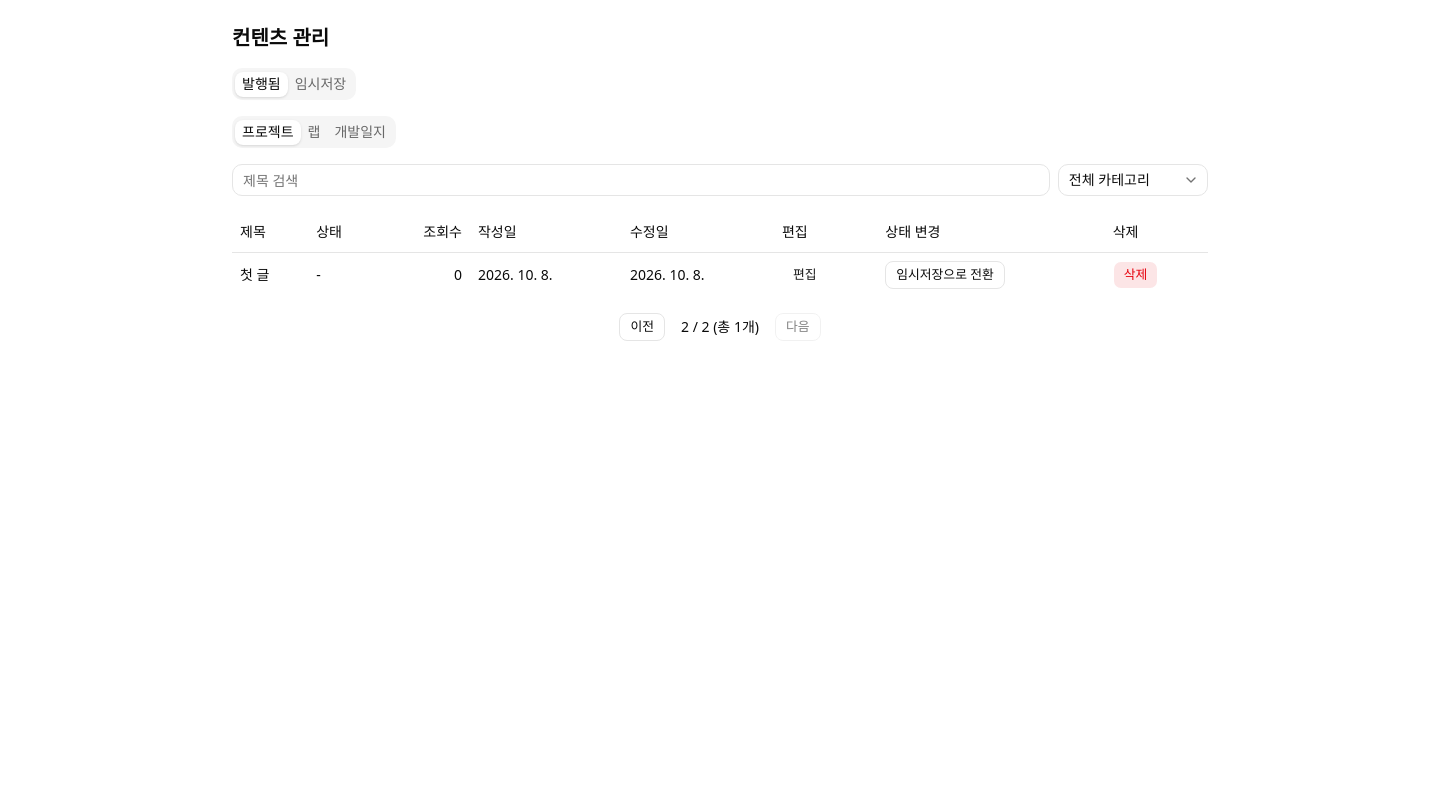
Scenario: PostListPage 글 삭제 › 대화상자를 연 뒤 URL이 바뀌는 경우(뒤로/앞으로 가기) › [경계] 삭제 대상 글이 현재 목록에 없으면 2쪽 이상이라도 이전 페이지로 이동하지 않고 같은 페이지를 다시 조회해야 한다
Expected: the text "첫 글" is shown, [232,252,308,296]
Click the button "삭제": click(1135, 274) [1113,260,1158,288]
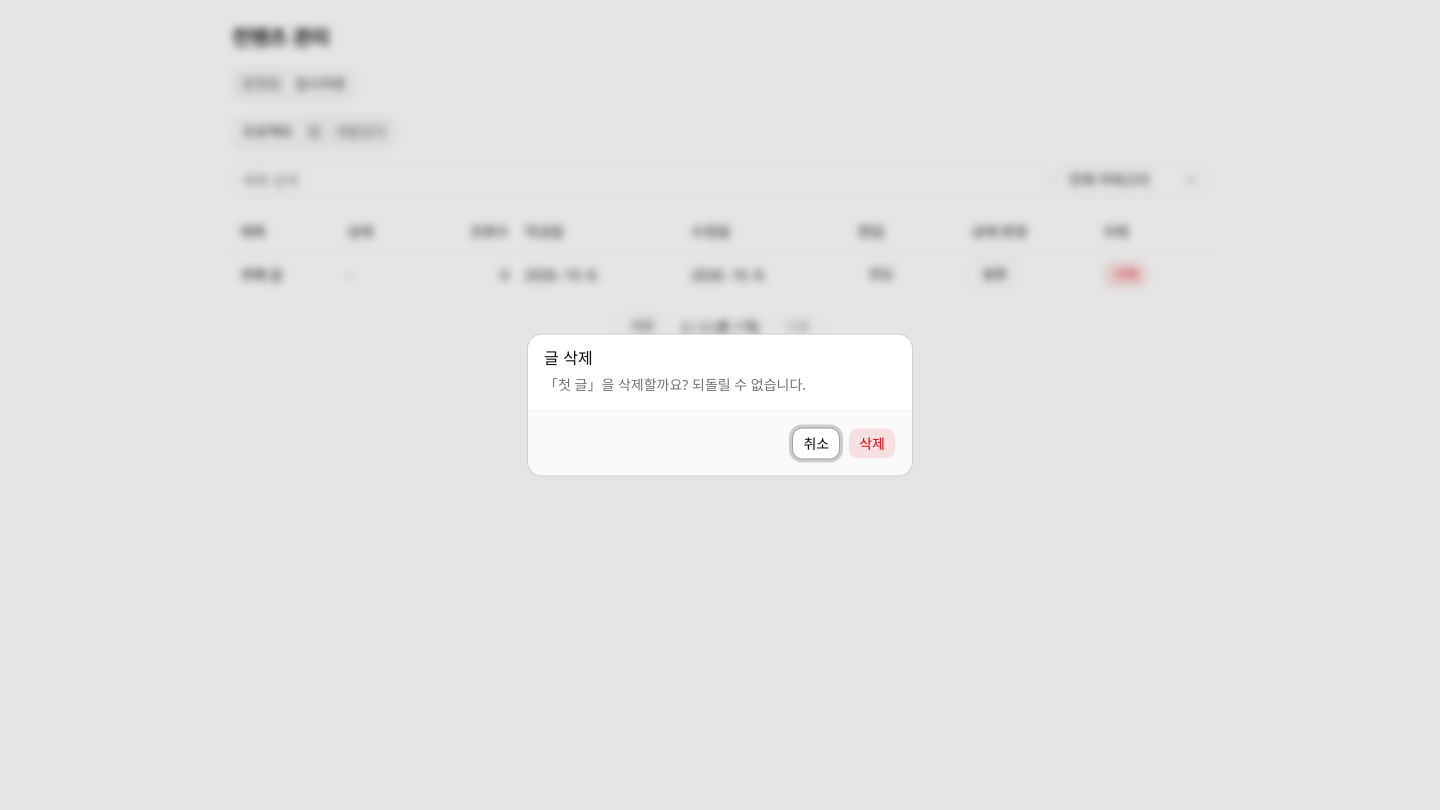
Now the text "셋째 글" is shown, box [232,252,339,296]
Click the button "삭제": click(872, 444) [848,428,896,460]
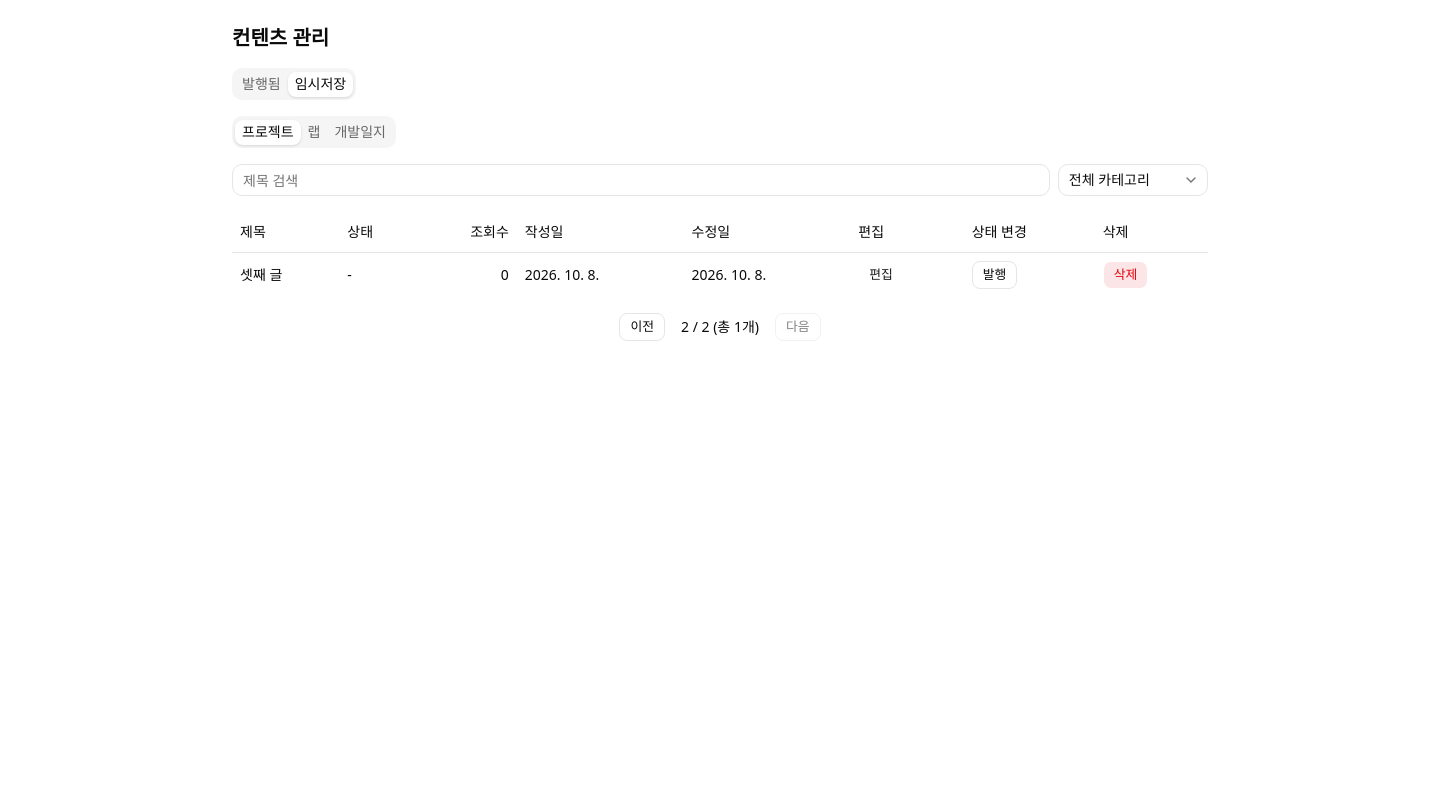
Now the dialog is gone
